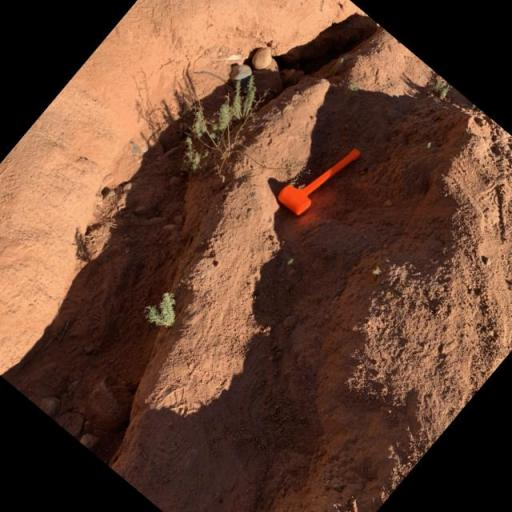mallet: (270, 125, 365, 227)
